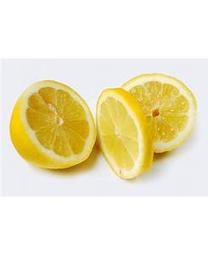lemon: (11, 79, 95, 169), (123, 73, 196, 154), (98, 86, 152, 181)
